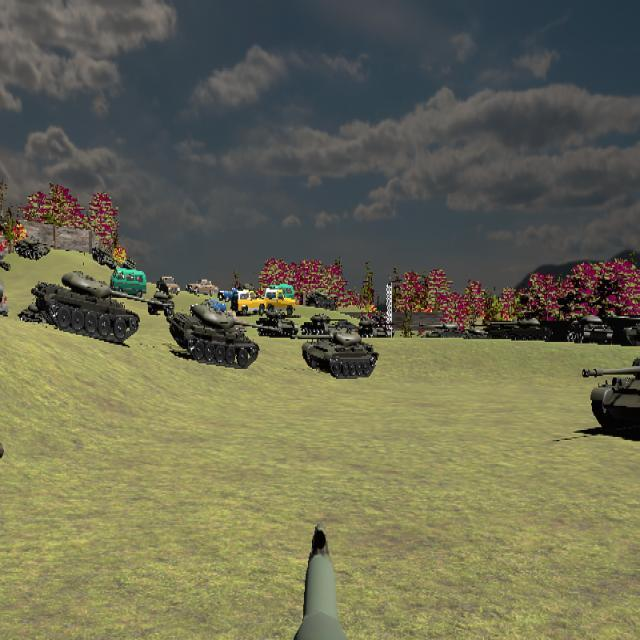Tank: (32, 272, 170, 345), (169, 303, 276, 369), (582, 352, 640, 439), (292, 327, 379, 379), (487, 317, 549, 343), (256, 309, 300, 339), (302, 312, 347, 338), (15, 234, 51, 260), (92, 243, 116, 268)
car: (111, 268, 147, 299), (231, 289, 265, 316), (263, 289, 295, 317), (186, 278, 218, 297), (157, 276, 180, 296)
